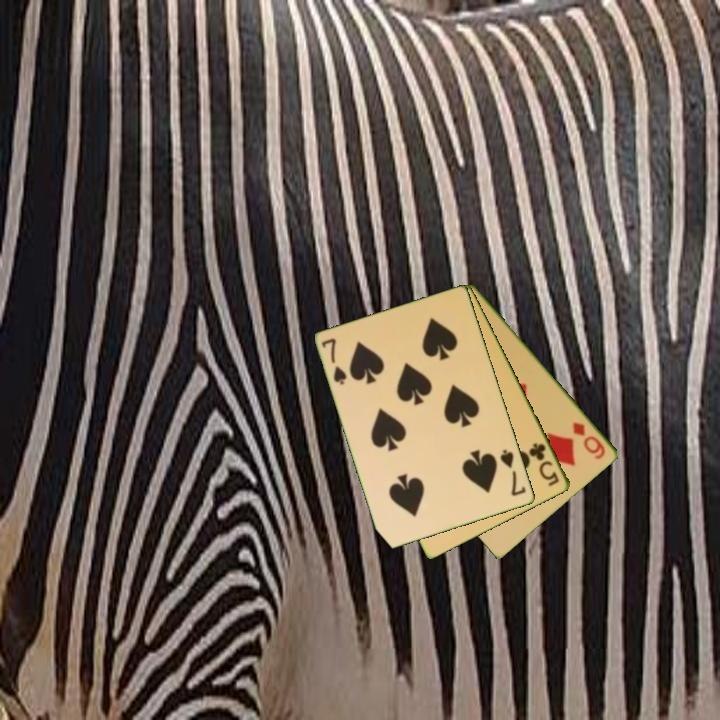5c: (525, 439, 562, 489)
6d: (569, 418, 609, 462)
7s: (497, 446, 529, 499), (318, 335, 350, 388)
